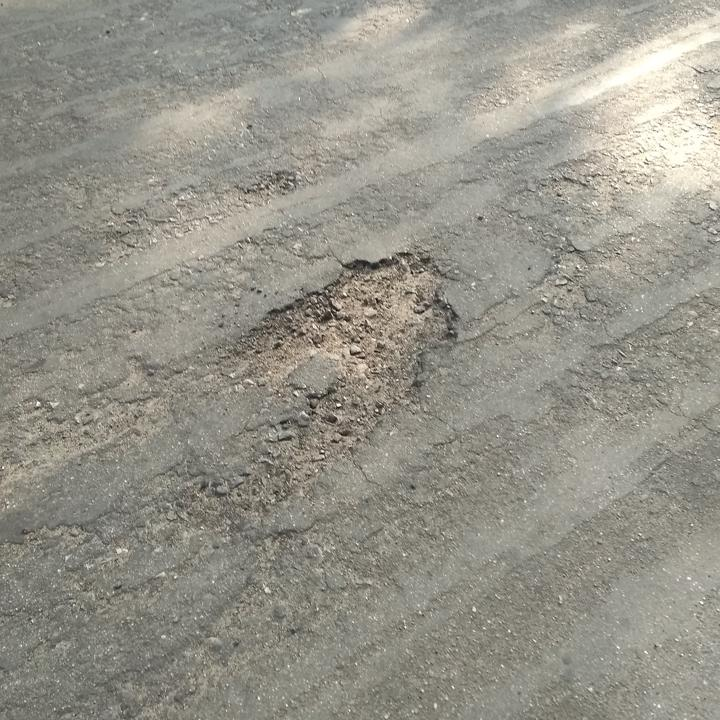pothole: (223, 245, 466, 489)
